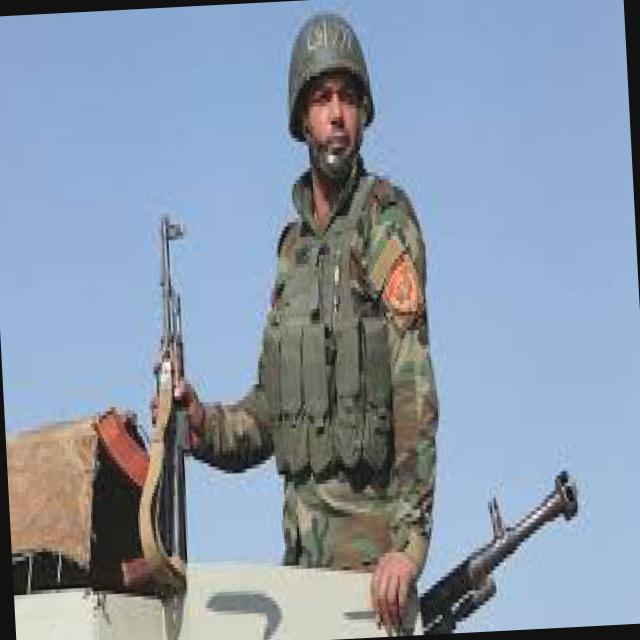long weapon: (120, 178, 237, 584)
